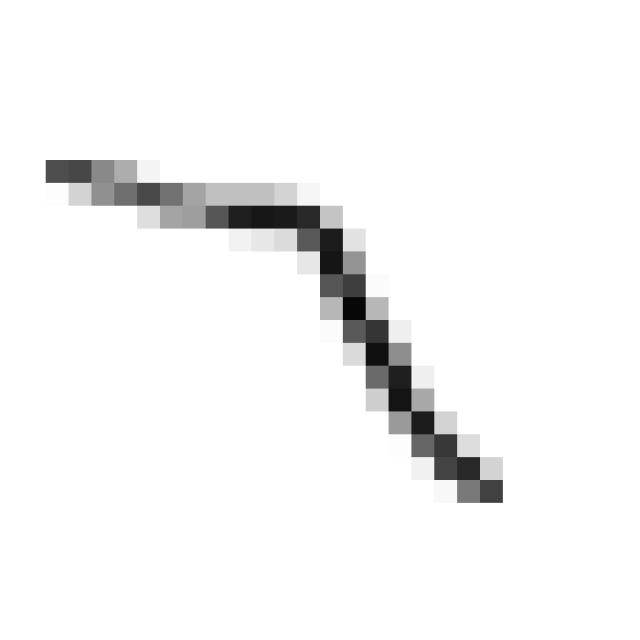6 -six-: (25, 140, 521, 524)
